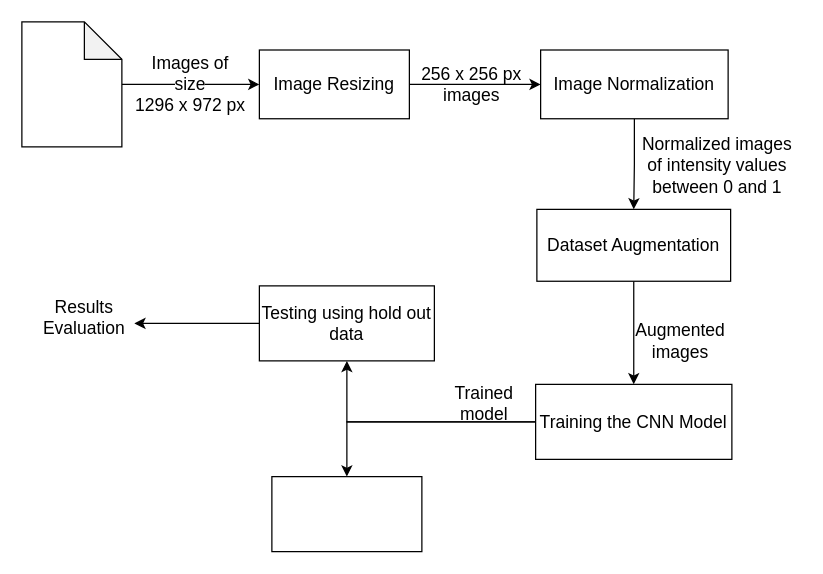
Image size: 823x574. Some labels were removed from this diagram. The shapes that lost their labels are listed below. From the top down, each one's centre as x and y in pixels, then its label:
At (x=71, y=84): "Dataset".
At (x=346, y=513): "Prediction for a new image".
